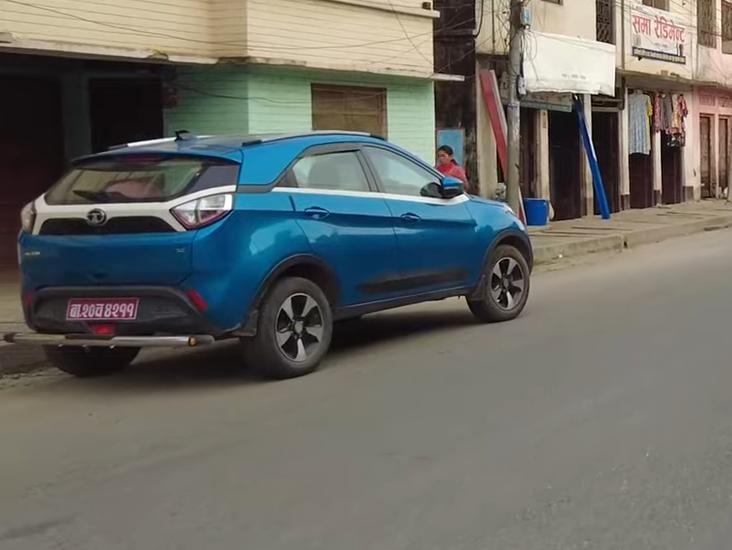car: (13, 117, 536, 381)
